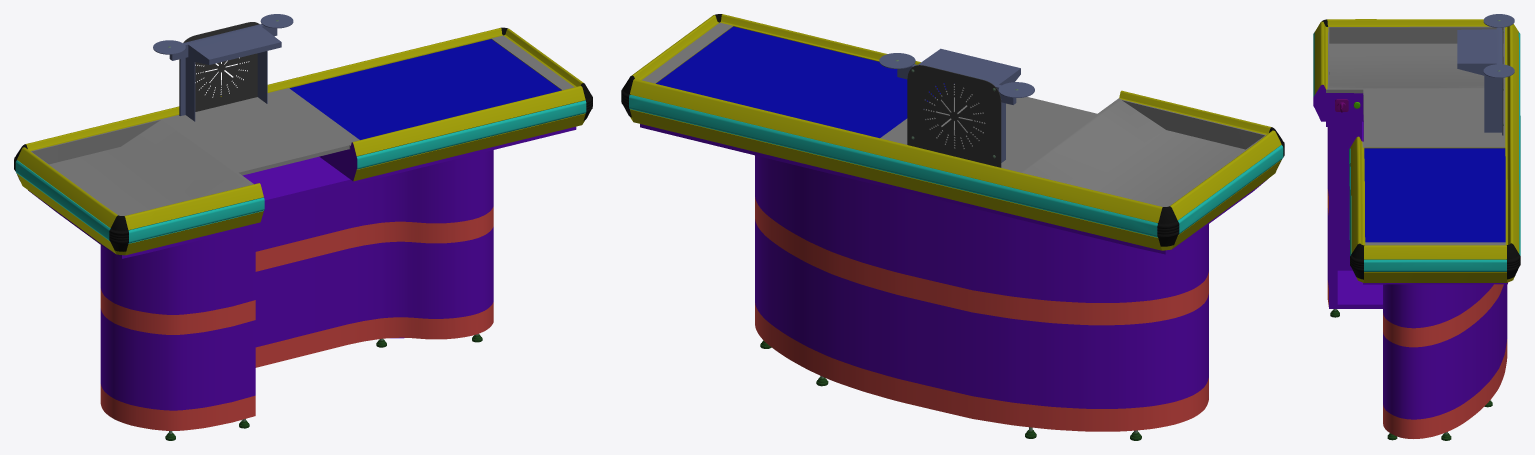
The model's file is checkout-counter.glb.
The picture shows the model from 3 angles, left to right: view 1: azimuth 30°, elevation 25°; view 2: azimuth 150°, elevation 25°; view 3: azimuth 270°, elevation 25°; orthographic projection. The views are drawn at different scales.
Visible parts, largest first — view 1: checkout desk 2, checkout desk 1; view 2: checkout desk 2, checkout desk 1; view 3: checkout desk 2, checkout desk 1.
Boxes of the visible parts, x1,y1,x2,y2 form: checkout desk 2: (15,27,586,430); checkout desk 1: (14,14,592,440); checkout desk 2: (629,14,1283,431); checkout desk 1: (621,14,1284,440); checkout desk 2: (1313,19,1520,438); checkout desk 1: (1321,14,1520,440).
Bounding box in the file's own units: 2.2 × 1.33 × 0.8237.
